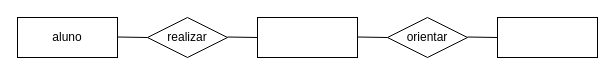
This 615x75 diagram has some shape labels left out. The shapes that lost their labels are listed below. From the top down, each one's centre as x and y in pixels, then its label:
(x=307, y=37): trabalho
(x=547, y=37): professor
